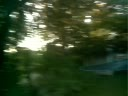window: (0, 0, 38, 96), (49, 71, 76, 96), (49, 35, 72, 49), (102, 83, 121, 96)
